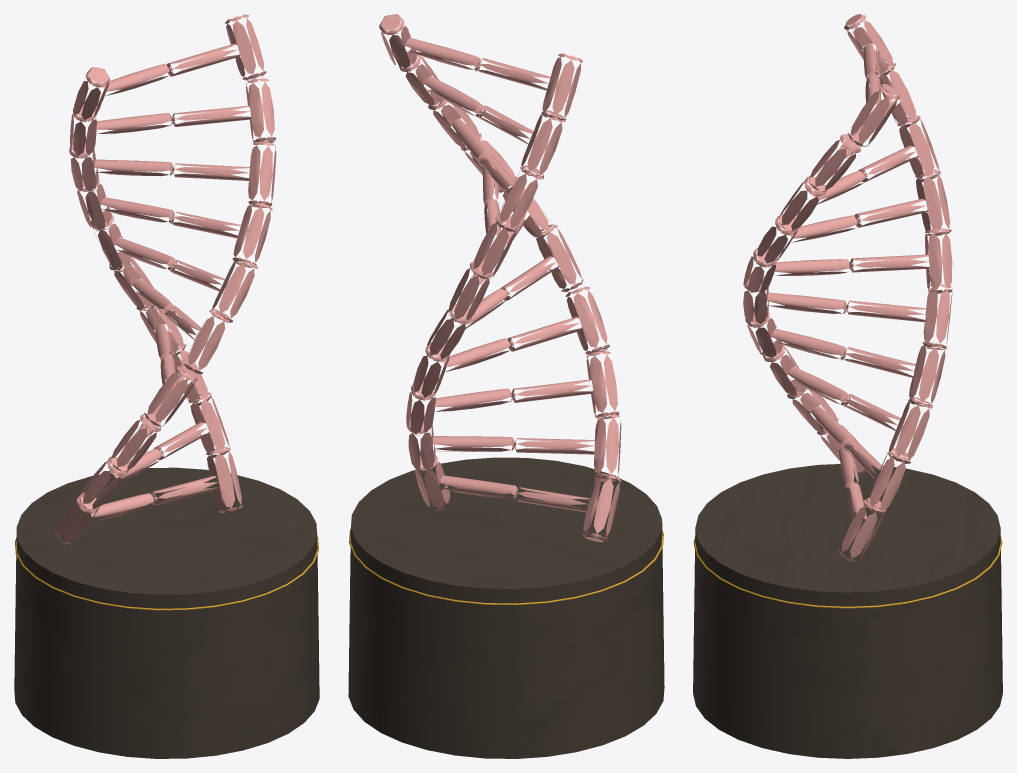
File: medicine.glb
3 views of the same model, side by side, from view 1: azimuth 30°, elevation 25°; view 2: azimuth 150°, elevation 25°; view 3: azimuth 270°, elevation 25° (orthographic). The views are drawn at different scales.
Parts seen in each view (by area): view 1: marble_column, group1918272623, group98267956, group1890997749, group816999805, group1941224218, group1692922274, group1916454902, group905627815, group64402491, group80703863, group543773821 (+10 smaller); view 2: marble_column, group1184130097, group500574630, group1100175594, group583171219, group1692922274, group1890997749, group1355464784, group64402491, group1941224218, group679215435, group543773821 (+10 smaller); view 3: marble_column, group98256001, group1347056512, group1440525040, group80703863, group679215435, group905627815, group500574630, group1916454902, group1355464784, group816999805, group543773821 (+10 smaller).
Boxes of the visible parts, left/top/right/bottom form: marble_column: left=14, top=467, right=319, bottom=758; group1918272623: left=172, top=141, right=276, bottom=207; group98267956: left=172, top=78, right=275, bottom=144; group1890997749: left=167, top=14, right=266, bottom=80; group816999805: left=172, top=202, right=272, bottom=267; group1941224218: left=150, top=446, right=243, bottom=513; group1692922274: left=74, top=63, right=169, bottom=119; group1916454902: left=170, top=257, right=257, bottom=322; group905627815: left=69, top=142, right=173, bottom=193; group64402491: left=70, top=103, right=172, bottom=155; group80703863: left=75, top=175, right=174, bottom=231; group543773821: left=153, top=392, right=230, bottom=459; marble_column: left=348, top=457, right=664, bottom=758; group1184130097: left=511, top=350, right=619, bottom=419; group500574630: left=507, top=286, right=609, bottom=354; group1100175594: left=514, top=414, right=621, bottom=481; group583171219: left=516, top=473, right=621, bottom=542; group1692922274: left=478, top=53, right=582, bottom=121; group1890997749: left=379, top=14, right=481, bottom=71; group1355464784: left=500, top=224, right=583, bottom=300; group64402491: left=478, top=105, right=565, bottom=177; group1941224218: left=415, top=454, right=518, bottom=510; group679215435: left=406, top=380, right=512, bottom=436; group543773821: left=407, top=415, right=514, bottom=472; marble_column: left=693, top=464, right=1002, bottom=758; group98256001: left=849, top=228, right=952, bottom=293; group1347056512: left=844, top=341, right=946, bottom=406; group1440525040: left=846, top=284, right=952, bottom=349; group80703863: left=854, top=169, right=951, bottom=235; group679215435: left=844, top=394, right=932, bottom=463; group905627815: left=858, top=115, right=940, bottom=182; group500574630: left=745, top=308, right=846, bottom=360; group1916454902: left=744, top=248, right=850, bottom=292; group1355464784: left=743, top=273, right=846, bottom=324; group816999805: left=757, top=213, right=857, bottom=263; group543773821: left=845, top=438, right=910, bottom=514.
Size of the model in its own units: 0.4302 by 1 by 0.4302.
8 materials, 1 textured.
